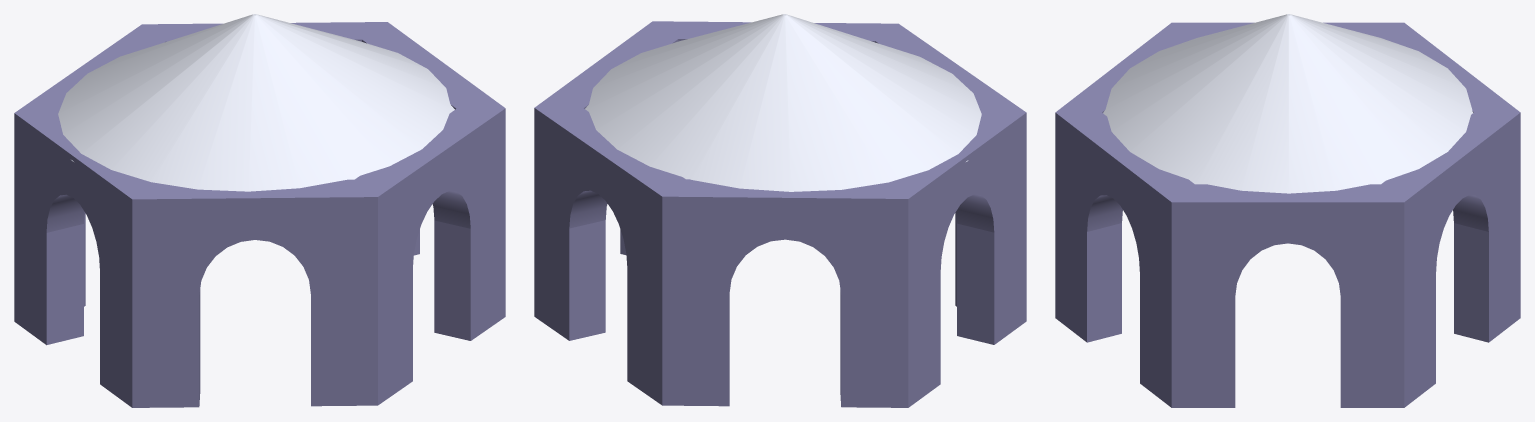
The picture shows the model from 3 angles, left to right: view 1: azimuth 30°, elevation 25°; view 2: azimuth 150°, elevation 25°; view 3: azimuth 270°, elevation 25°; orthographic projection.
Visible parts, largest first — view 1: mergedBlocks; view 2: mergedBlocks; view 3: mergedBlocks.
Boxes of the visible parts, left/top/right/bottom form: mergedBlocks: left=14, top=14, right=505, bottom=407; mergedBlocks: left=534, top=14, right=1026, bottom=407; mergedBlocks: left=1055, top=14, right=1520, bottom=407.
Bounding box in the file's own units: 38.45 × 30 × 42.03.
